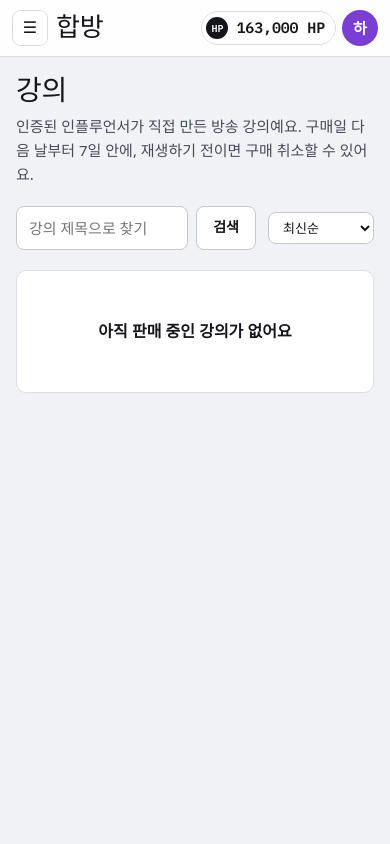
Test: 모바일 내비 드로어 › Esc로 닫힌다
Click the button named "메뉴 열기". click: x=30, y=28
box: [12,10,48,46]
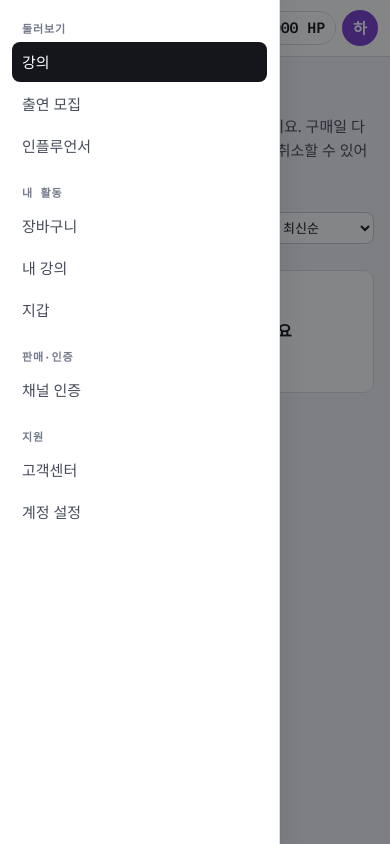
Press Escape
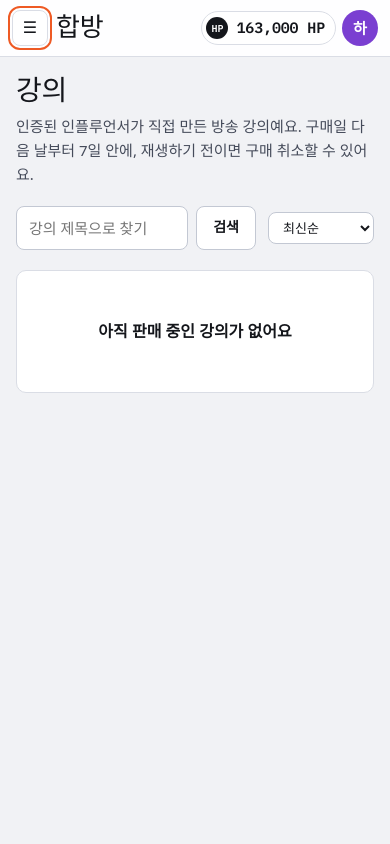
Check: the button named "메뉴 열기" is collapsed, box [12,10,48,46]
